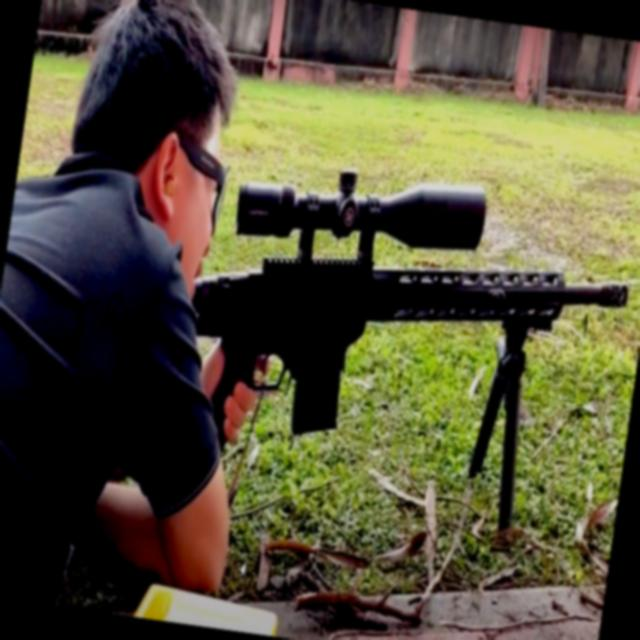rifle: (160, 136, 640, 537)
